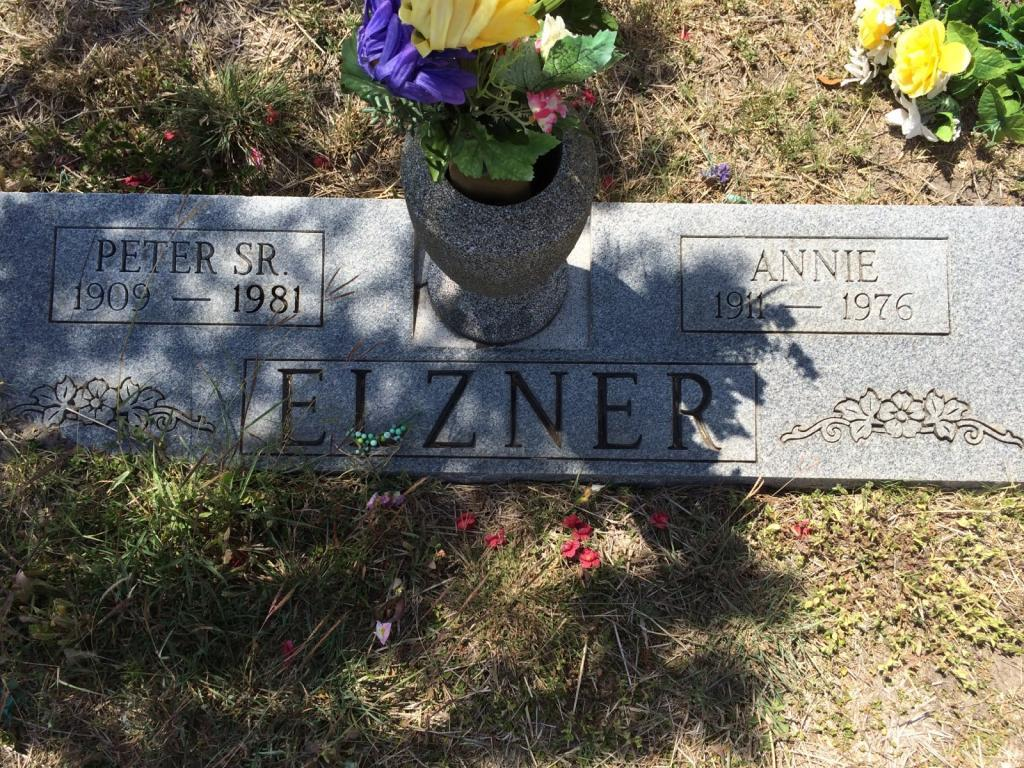flat: (0, 198, 1024, 482)
